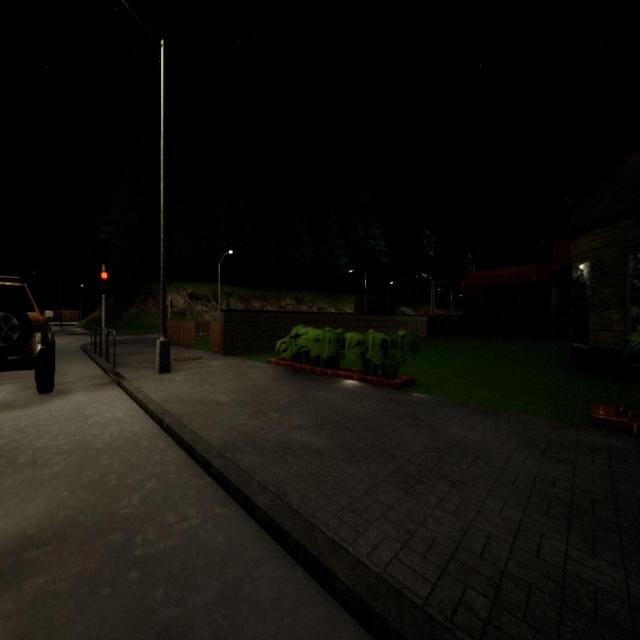Vehicle: (0, 276, 55, 393)
traffic_light: (100, 270, 108, 294), (169, 298, 174, 311)
